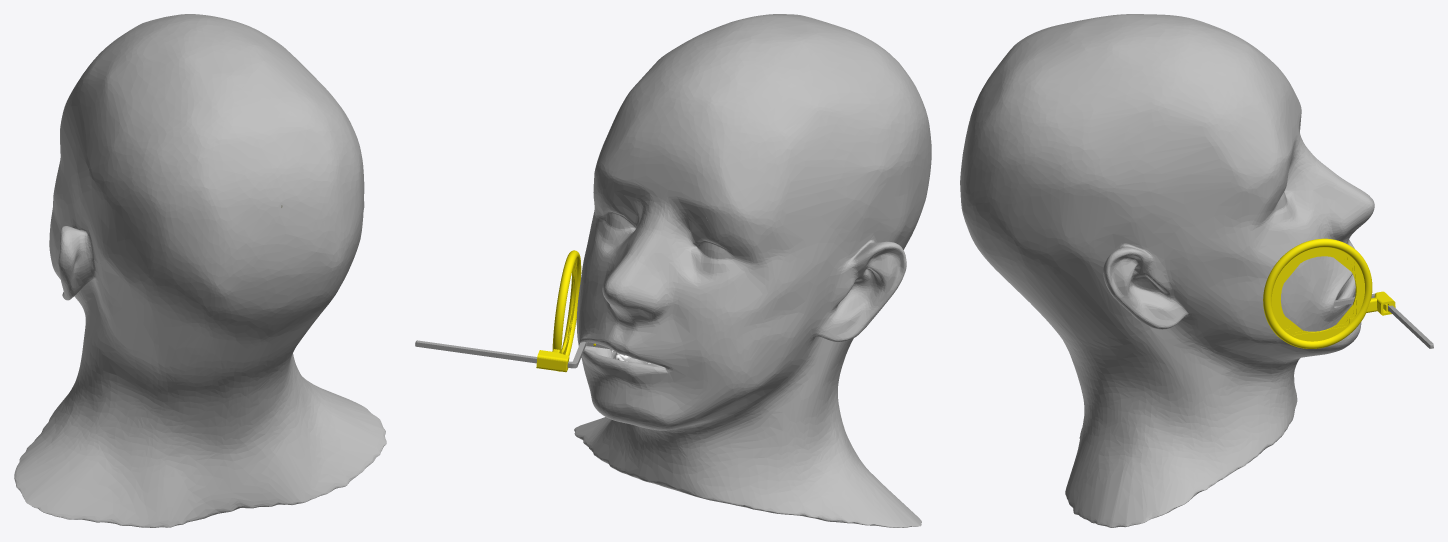
Rendered from yellow rinn holder first quadrant.fbx.
3 renders of one model, left to right at view 1: azimuth 30°, elevation 25°; view 2: azimuth 150°, elevation 25°; view 3: azimuth 270°, elevation 25°, orthographic. The views are drawn at different scales.
Parts seen in each view (by area): view 1: Skin_first_quadrant_yellow_rinn_holder:Group18080; view 2: Skin_first_quadrant_yellow_rinn_holder:Group18080, pTorus1, pCube57, pCube67; view 3: Skin_first_quadrant_yellow_rinn_holder:Group18080, plaatje_cover3, pTorus1, pCube57.
Boxes of the visible parts, x1,y1,x2,y2 form: Skin_first_quadrant_yellow_rinn_holder:Group18080: [14, 14, 386, 527]; Skin_first_quadrant_yellow_rinn_holder:Group18080: [574, 14, 931, 527]; pTorus1: [552, 250, 580, 371]; pCube57: [415, 340, 609, 368]; pCube67: [536, 349, 569, 372]; Skin_first_quadrant_yellow_rinn_holder:Group18080: [960, 14, 1374, 527]; plaatje_cover3: [1271, 247, 1364, 341]; pTorus1: [1263, 238, 1372, 348]; pCube57: [1334, 293, 1433, 348].
Bounding box in the file's own units: 25.88 × 31.48 × 30.62.
